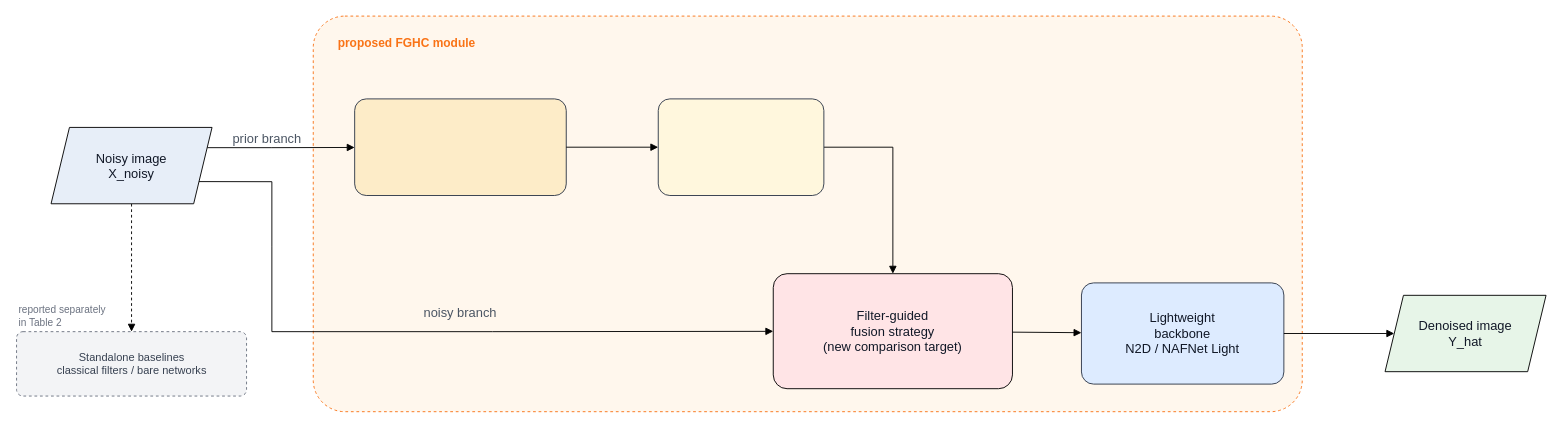
This 1562x428 diagram has some shape labels left out. Each missing label, with the box of its shape:
Deterministic pre-filter F PRBF / GGB / AD Zhang: (354, 98, 566, 196)
Structural prior X_filtered: (657, 98, 824, 196)
